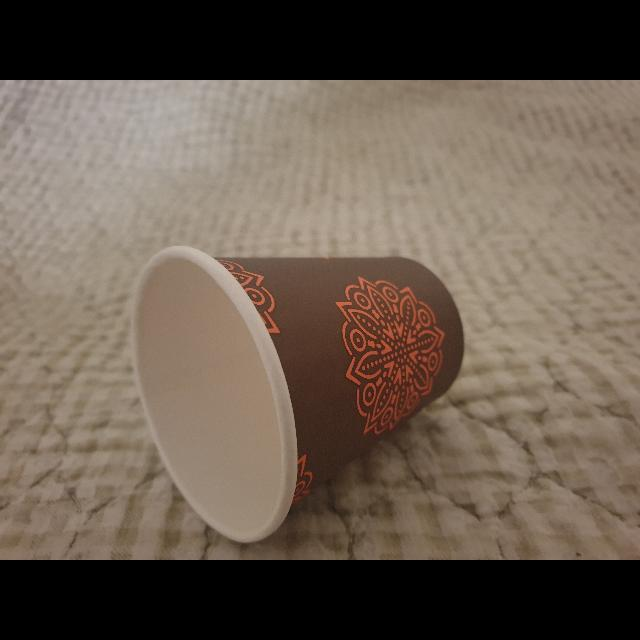trash: (126, 244, 466, 550)
